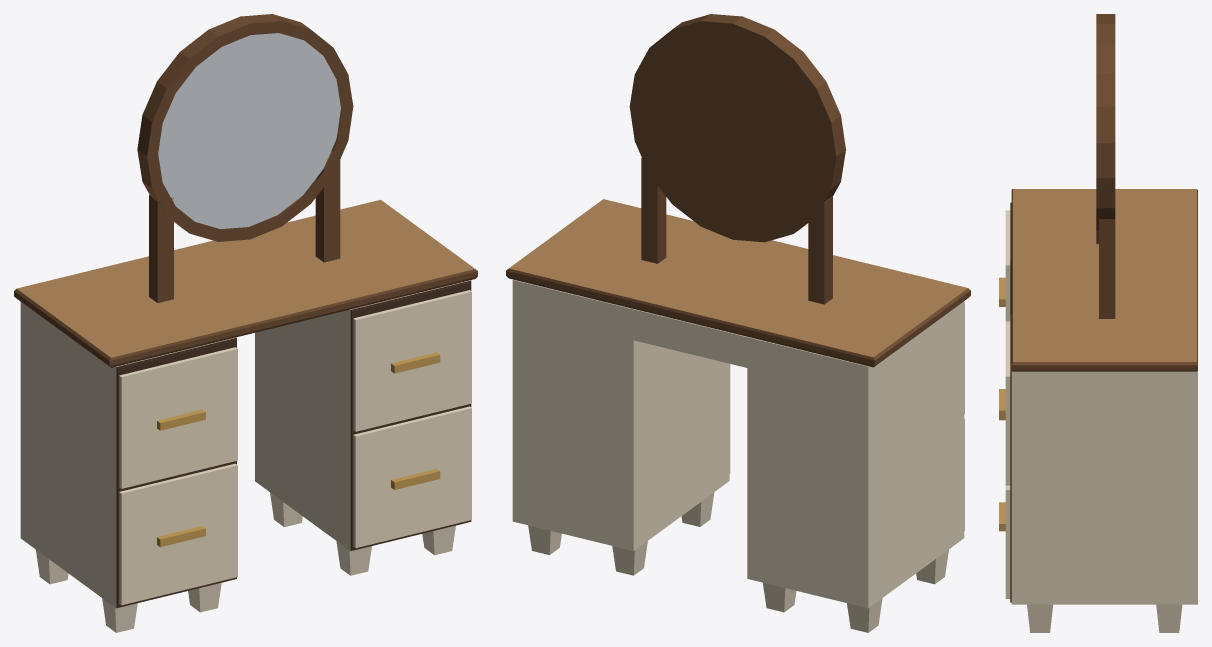
Rendered from FN_Table_Dressing.obj.
The picture shows the model from 3 angles, left to right: view 1: azimuth 30°, elevation 25°; view 2: azimuth 150°, elevation 25°; view 3: azimuth 270°, elevation 25°; orthographic projection. The views are drawn at different scales.
Visible parts, largest first — view 1: FN_Table_Dressing; view 2: FN_Table_Dressing; view 3: FN_Table_Dressing.
Part boxes in pixels (box(x1,y1,x2,y2)): FN_Table_Dressing: box(14, 14, 477, 632); FN_Table_Dressing: box(506, 14, 970, 632); FN_Table_Dressing: box(999, 14, 1197, 632).
Size of the model in its own units: 1 by 1.41 by 0.48.
Materials: 1 (1 with a texture image).
